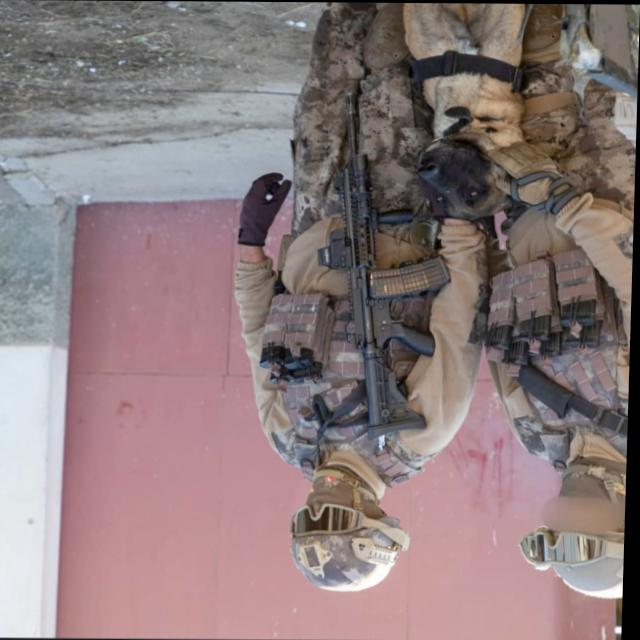poh_personel: (232, 1, 497, 593), (486, 3, 640, 600)
